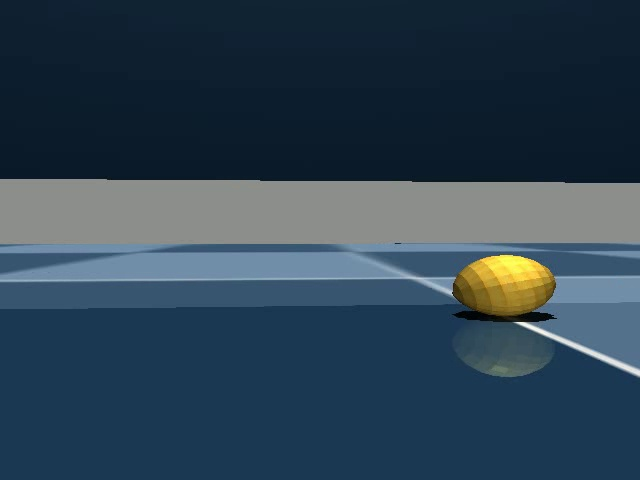lemon: (447, 249, 563, 328)
